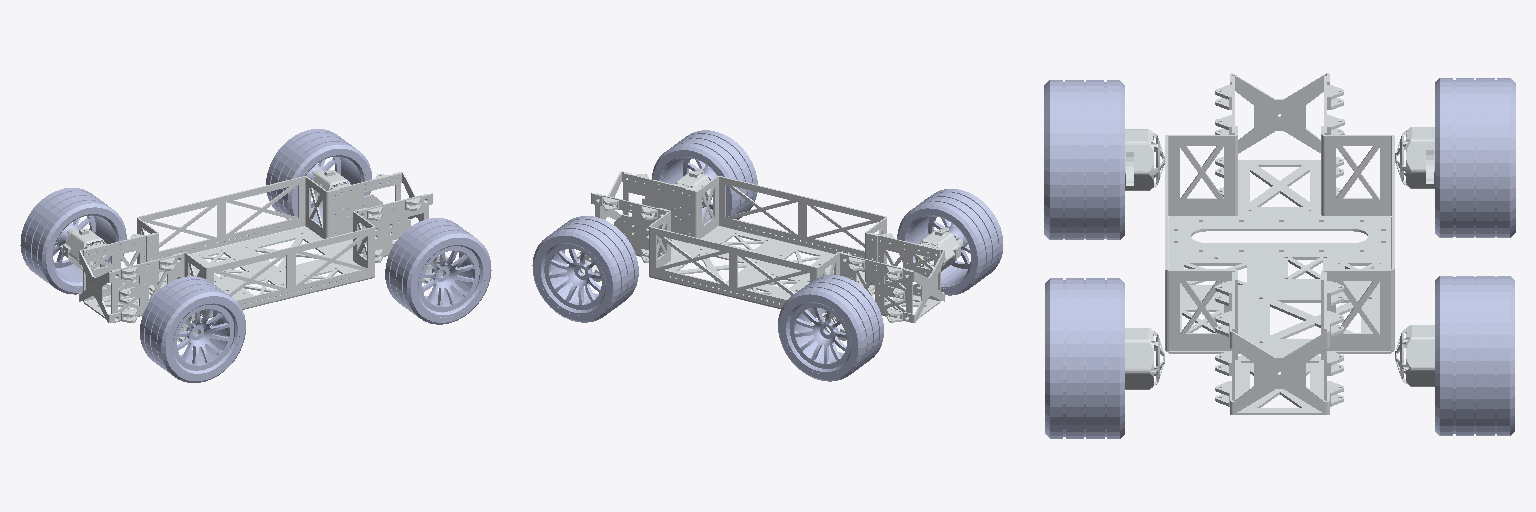
URDF robot description (roma_car):
<?xml version="1.0" encoding="utf-8"?>
<!-- This URDF was automatically created by SolidWorks to URDF Exporter! Originally created by [author] ([email redacted]) 
     Commit Version: 1.6.0-4-g7f85cfe  Build Version: 1.6.7995.38578
     For more information, please see http://wiki.ros.org/sw_urdf_exporter -->
<robot
  name="roma_car">
  <!-- 添加虚拟根链接 base_footprint-->
  <!-- <link 
    name="base_footprint">
    <visual>
      <geometry>
        <sphere radius="0.001">
      </geometry>
    </visual>
  </link> -->
  <link
    name="base_link">
    <inertial>
      <origin
        xyz="-0.00717983951773655 1.82731480210871E-05 0.031757141842569"
        rpy="0 0 0" />
      <mass
        value="1.72904566991779" />
      <inertia
        ixx="0.00426877505385634"
        ixy="2.33058322927446E-05"
        ixz="1.88523933580718E-05"
        iyy="0.00706644277689109"
        iyz="4.59184860877107E-06"
        izz="0.00992013007901617" />
    </inertial>
    <visual>
      <origin
        xyz="0 0 0"
        rpy="0 0 0" />
      <geometry>
        <mesh
          filename="package://roma_car/meshes/base_link.STL" />
      </geometry>
      <material
        name="">
        <color
          rgba="0.898039215686275 0.917647058823529 0.929411764705882 1" />
      </material>
    </visual>
    <collision>
      <origin
        xyz="0 0 0"
        rpy="0 0 0" />
      <geometry>
        <mesh
          filename="package://roma_car/meshes/base_link.STL" />
      </geometry>
    </collision>
  </link>
  <!-- 添加base_link到base_footprint之间的fixed关节 -->
  <!-- <joint
    name="baselink2footprint" type="fixed">
    <parent link="base_footprint"/>
    <child link="base_link"/>
    <origin xyz="0 0 0" rpy="0 0 0"/>
  </joint> -->

  <!-- LFSteer link-->
  <link
    name="LF_steer_link">
    <inertial>
      <origin
        xyz="0.00207166156705108 -0.00293424254545202 -1.2504503109842E-06"
        rpy="0 0 0" />
      <mass
        value="0.0678865224651951" />
      <inertia
        ixx="3.04921474473283E-05"
        ixy="1.92137892493573E-06"
        ixz="-2.66341595719942E-09"
        iyy="3.6288677709521E-05"
        iyz="-3.45448735906458E-09"
        izz="2.73221018835434E-05" />
    </inertial>
    <visual>
      <origin
        xyz="0 0 0"
        rpy="0 0 0" />
      <geometry>
        <mesh
          filename="package://roma_car/meshes/LF_steer_link.STL" />
      </geometry>
      <material
        name="">
        <color
          rgba="0.898039215686275 0.917647058823529 0.929411764705882 1" />
      </material>
    </visual>
    <collision>
      <origin
        xyz="0 0 0"
        rpy="0 0 0" />
      <geometry>
        <mesh
          filename="package://roma_car/meshes/LF_steer_link.STL" />
      </geometry>
    </collision>
  </link>
  <!-- LFSteer joint -->
  <joint
    name="LF_steer_joint"
    type="revolute">
    <origin
      xyz="0.202 0.14049 0.0274"
      rpy="0 0 0" />
    <parent
      link="base_link" />
    <child
      link="LF_steer_link" />
    <axis
      xyz="0 0 -1" />
    <limit
      lower="-0.68"
      upper="0.68"
      effort="3.0"
      velocity="5.0" />
  </joint>
  <!-- LFsus link -->
  <link
    name="LF_susp_link">
    <inertial>
      <origin
        xyz="0.00207166156705108 -0.00293424254545202 -1.25045031098767E-06"
        rpy="0 0 0" />
      <mass
        value="0.0678865224651951" />
      <inertia
        ixx="3.04921474473283E-05"
        ixy="1.92137892493573E-06"
        ixz="-2.66341595719842E-09"
        iyy="3.6288677709521E-05"
        iyz="-3.45448735906514E-09"
        izz="2.73221018835434E-05" />
    </inertial>
    <visual>
      <origin
        xyz="0 0 0"
        rpy="0 0 0" />
      <geometry>
        <mesh
          filename="package://roma_car/meshes/LF_susp_link.STL" />
      </geometry>
      <material
        name="">
        <color
          rgba="0.898039215686275 0.917647058823529 0.929411764705882 1" />
      </material>
    </visual>
    <collision>
      <origin
        xyz="0 0 0"
        rpy="0 0 0" />
      <geometry>
        <mesh
          filename="package://roma_car/meshes/LF_susp_link.STL" />
      </geometry>
    </collision>
  </link>
  <!-- LFsus joint -->
  <joint
    name="LF_susp_joint"
    type="prismatic">
    <origin
      xyz="0 0 0"
      rpy="0 0 0" />
    <parent
      link="LF_steer_link" />
    <child
      link="LF_susp_link" />
    <axis
      xyz="0 0 -1" />
    <limit
      lower="-0.03"
      upper="0.03"
      effort="1"
      velocity="1" />
    <dynamics 
      damping= "0.1"
      friction = "0.0" />
  </joint>
 
  <!-- LFdrivelink -->
  <link
    name="LF_drive_link">
    <inertial>
      <origin
        xyz="3.30620242017243E-08 -0.0336073824875323 1.55544594534346E-07"
        rpy="0 0 0" />
      <mass
        value="0.507113050935727" />
      <inertia
        ixx="0.00111884294010658"
        ixy="6.40656197255056E-11"
        ixz="-4.50411004489087E-14"
        iyy="0.00183459882798548"
        iyz="3.01405042947201E-10"
        izz="0.00111884294014766" />
    </inertial>
    <visual>
      <origin
        xyz="0 0 0"
        rpy="0 0 0" />
      <geometry>
        <mesh
          filename="package://roma_car/meshes/LF_drive_link.STL" />
      </geometry>
      <material
        name="">
        <color
          rgba="0.792156862745098 0.819607843137255 0.933333333333333 1" />
      </material>
    </visual>
    <collision>
      <origin
        xyz="0 0 0"
        rpy="0 0 0" />
      <geometry>
        <mesh
          filename="package://roma_car/meshes/LF_drive_link.STL" />
      </geometry>
    </collision>
  </link>
  <!-- LFdrive joint -->
  <joint
    name="LF_drive_joint"
    type="revolute">
    <origin
      xyz="0 0.0645 0"
      rpy="0 0 0" />
    <parent
      link="LF_susp_link" />
    <child
      link="LF_drive_link" />
    <axis
      xyz="0 -1 0" />
    <limit
      lower="0"
      upper="0"
      effort="1.6"
      velocity="1000" />
  </joint>

  <!-- RFSteer link -->
  <link
    name="RF_steer_link">
    <inertial>
      <origin
        xyz="0.0020716576937303 0.00293424524332131 1.25427536733919E-06"
        rpy="0 0 0" />
      <mass
        value="0.0678865123621938" />
      <inertia
        ixx="3.0492145277787E-05"
        ixy="-1.92138446027928E-06"
        ixz="2.66322668060083E-09"
        iyy="3.62886633228721E-05"
        iyz="-3.4548351112828E-09"
        izz="2.73220927297138E-05" />
    </inertial>
    <visual>
      <origin
        xyz="0 0 0"
        rpy="0 0 0" />
      <geometry>
        <mesh
          filename="package://roma_car/meshes/RF_steer_link.STL" />
      </geometry>
      <material
        name="">
        <color
          rgba="0.898039215686275 0.917647058823529 0.929411764705882 1" />
      </material>
    </visual>
    <collision>
      <origin
        xyz="0 0 0"
        rpy="0 0 0" />
      <geometry>
        <mesh
          filename="package://roma_car/meshes/RF_steer_link.STL" />
      </geometry>
    </collision>
  </link>
  <!-- RFSteer joint -->
  <joint
    name="RF_steer_joint"
    type="revolute">
    <origin
      xyz="0.202 -0.1401 0.024747"
      rpy="0 0 0" />
    <parent
      link="base_link" />
    <child
      link="RF_steer_link" />
    <axis
      xyz="0 0 -0.999999999999999" />
    <limit
      lower="-0.68"
      upper="0.68"
      effort="3.0"
      velocity="5.0" />
  </joint>
  <!-- RFsusp link -->
  <link
    name="RF_susp_link">
    <inertial>
      <origin
        xyz="0.00207165769373031 0.00293424524332137 1.25427536733919E-06"
        rpy="0 0 0" />
      <mass
        value="0.0678865123621938" />
      <inertia
        ixx="3.0492145277787E-05"
        ixy="-1.92138446027928E-06"
        ixz="2.66322668060124E-09"
        iyy="3.62886633228721E-05"
        iyz="-3.45483511128314E-09"
        izz="2.73220927297138E-05" />
    </inertial>
    <visual>
      <origin
        xyz="0 0 0"
        rpy="0 0 0" />
      <geometry>
        <mesh
          filename="package://roma_car/meshes/RF_susp_link.STL" />
      </geometry>
      <material
        name="">
        <color
          rgba="0.898039215686275 0.917647058823529 0.929411764705882 1" />
      </material>
    </visual>
    <collision>
      <origin
        xyz="0 0 0"
        rpy="0 0 0" />
      <geometry>
        <mesh
          filename="package://roma_car/meshes/RF_susp_link.STL" />
      </geometry>
    </collision>
  </link>
  <!-- RFsus joint -->
  <joint
    name="RF_susp_joint"
    type="prismatic">
    <origin
      xyz="0 0 0"
      rpy="0 0 0" />
    <parent
      link="RF_steer_link" />
    <child
      link="RF_susp_link" />
    <axis
      xyz="0 0 -1" />
    <limit
      lower="-0.03"
      upper="0.03"
      effort="1"
      velocity="1" />
    <dynamics 
      damping= "0.1"
      friction = "0.0" />
  </joint>

  <!-- RFdrive link -->
   <link
    name="RF_drive_link">
    <inertial>
      <origin
        xyz="3.30620242156021E-08 0.0336073824875322 -1.55544594516999E-07"
        rpy="0 0 0" />
      <mass
        value="0.507113050935727" />
      <inertia
        ixx="0.00111884294010658"
        ixy="-6.40656198339258E-11"
        ixz="4.50408198797879E-14"
        iyy="0.00183459882798547"
        iyz="3.01405043106566E-10"
        izz="0.00111884294014766" />
    </inertial>
    <visual>
      <origin
        xyz="0 0 0"
        rpy="0 0 0" />
      <geometry>
        <mesh
          filename="package://roma_car/meshes/RF_drive_link.STL" />
      </geometry>
      <material
        name="">
        <color
          rgba="0.792156862745098 0.819607843137255 0.933333333333333 1" />
      </material>
    </visual>
    <collision>
      <origin
        xyz="0 0 0"
        rpy="0 0 0" />
      <geometry>
        <mesh
          filename="package://roma_car/meshes/RF_drive_link.STL" />
      </geometry>
    </collision>
  </link>
  <!-- RFdrive joint -->
  <joint
    name="RF_drive_joint"
    type="revolute">
    <origin
      xyz="0 -0.0645 0"
      rpy="0 0 0" />
    <parent
      link="RF_susp_link" />
    <child
      link="RF_drive_link" />
    <axis
      xyz="0 0.999999999999971 0" />
    <limit
      lower="0"
      upper="0"
      effort="1.6"
      velocity="1000" />
  </joint>
  <!-- LBsus link -->
  <link
    name="LB_susp_link">
    <inertial>
      <origin
        xyz="-0.0020716605562279 -0.00293425884253445 1.25481721927057E-06"
        rpy="0 0 0" />
      <mass
        value="0.0678865592182801" />
      <inertia
        ixx="3.04921510749327E-05"
        ixy="-1.9213806579218E-06"
        ixz="-2.66095305689508E-09"
        iyy="3.62886859937246E-05"
        iyz="3.45531634353211E-09"
        izz="2.73221072587474E-05" />
    </inertial>
    <visual>
      <origin
        xyz="0 0 0"
        rpy="0 0 0" />
      <geometry>
        <mesh
          filename="package://roma_car/meshes/LB_susp_link.STL" />
      </geometry>
      <material
        name="">
        <color
          rgba="0.898039215686275 0.917647058823529 0.929411764705882 1" />
      </material>
    </visual>
    <collision>
      <origin
        xyz="0 0 0"
        rpy="0 0 0" />
      <geometry>
        <mesh
          filename="package://roma_car/meshes/LB_susp_link.STL" />
      </geometry>
    </collision>
  </link>
  <!-- LBsus joint -->
  <joint
    name="LB_susp_joint"
    type="prismatic">
    <origin
      xyz="-0.202 0.14069 0.029059"
      rpy="0 0 0" />
    <parent
      link="base_link" />
    <child
      link="LB_susp_link" />
    <axis
      xyz="0 0 -1" />
    <limit
      lower="-0.03"
      upper="0.03"
      effort="1"
      velocity="1" />
    <dynamics 
      damping= "0.1"
      friction = "0.0" />
  </joint>
  <!-- LBdrive link -->
  <link
    name="LB_drive_link">
    <inertial>
      <origin
        xyz="-3.30620247013247E-08 -0.0336073824875323 -1.55544594784146E-07"
        rpy="0 0 0" />
      <mass
        value="0.507113050935728" />
      <inertia
        ixx="0.00111884294010658"
        ixy="-6.40656198032815E-11"
        ixz="-4.50413046944349E-14"
        iyy="0.00183459882798548"
        iyz="-3.01405043212294E-10"
        izz="0.00111884294014766" />
    </inertial>
    <visual>
      <origin
        xyz="0 0 0"
        rpy="0 0 0" />
      <geometry>
        <mesh
          filename="package://roma_car/meshes/LB_drive_link.STL" />
      </geometry>
      <material
        name="">
        <color
          rgba="0.792156862745098 0.819607843137255 0.933333333333333 1" />
      </material>
    </visual>
    <collision>
      <origin
        xyz="0 0 0"
        rpy="0 0 0" />
      <geometry>
        <mesh
          filename="package://roma_car/meshes/LB_drive_link.STL" />
      </geometry>
    </collision>
  </link>
  <!-- LBdrive joint -->
  <joint
    name="LB_drive_joint"
    type="revolute">
    <origin
      xyz="0 0.0645 0"
      rpy="0 0 0" />
    <parent
      link="LB_susp_link" />
    <child
      link="LB_drive_link" />
    <axis
      xyz="0 -1 0" />
    <limit
      lower="0"
      upper="0"
      effort="1.6"
      velocity="1000" />
  </joint>
  <!-- RBsus link -->
  <link
    name="RB_susp_link">
    <inertial>
      <origin
        xyz="-0.0020716605562279 0.00293425884253443 -1.25481721927057E-06"
        rpy="0 0 0" />
      <mass
        value="0.0678865592182801" />
      <inertia
        ixx="3.04921510749327E-05"
        ixy="1.9213806579218E-06"
        ixz="2.66095305689854E-09"
        iyy="3.62886859937246E-05"
        iyz="3.45531634354458E-09"
        izz="2.73221072587474E-05" />
    </inertial>
    <visual>
      <origin
        xyz="0 0 0"
        rpy="0 0 0" />
      <geometry>
        <mesh
          filename="package://roma_car/meshes/RB_susp_link.STL" />
      </geometry>
      <material
        name="">
        <color
          rgba="0.898039215686275 0.917647058823529 0.929411764705882 1" />
      </material>
    </visual>
    <collision>
      <origin
        xyz="0 0 0"
        rpy="0 0 0" />
      <geometry>
        <mesh
          filename="package://roma_car/meshes/RB_susp_link.STL" />
      </geometry>
    </collision>
  </link>
  <!-- RBsus joint -->
  <joint
    name="RB_susp_joint"
    type="prismatic">
    <origin
      xyz="-0.202000000000001 -0.140437398863823 0.0270007216203276"
      rpy="0 0 0" />
    <parent
      link="base_link" />
    <child
      link="RB_susp_link" />
    <axis
      xyz="0 0 -1" />
    <limit
      lower="-0.03"
      upper="0.03"
      effort="1"
      velocity="1" />
    <dynamics 
      damping= "0.1"
      friction = "0.0" />
  </joint>
  <!-- RBdrive link -->
  <link
    name="RB_drive_link">
    <inertial>
      <origin
        xyz="-3.30620241739688E-08 0.0336073824875323 1.55544594530876E-07"
        rpy="0 0 0" />
      <mass
        value="0.507113050935727" />
      <inertia
        ixx="0.00111884294010658"
        ixy="6.40656195963382E-11"
        ixz="4.50410270980237E-14"
        iyy="0.00183459882798548"
        iyz="-3.01405043000091E-10"
        izz="0.00111884294014766" />
    </inertial>
    <visual>
      <origin
        xyz="0 0 0"
        rpy="0 0 0" />
      <geometry>
        <mesh
          filename="package://roma_car/meshes/RB_drive_link.STL" />
      </geometry>
      <material
        name="">
        <color
          rgba="0.792156862745098 0.819607843137255 0.933333333333333 1" />
      </material>
    </visual>
    <collision>
      <origin
        xyz="0 0 0"
        rpy="0 0 0" />
      <geometry>
        <mesh
          filename="package://roma_car/meshes/RB_drive_link.STL" />
      </geometry>
    </collision>
  </link>
  <!-- RBdirve joint -->
  <joint
    name="RB_drive_joint"
    type="revolute">
    <origin
      xyz="0 -0.0645 0"
      rpy="0 0 0" />
    <parent
      link="RB_susp_link" />
    <child
      link="RB_drive_link" />
    <axis
      xyz="0 1 0" />
    <limit
      lower="0"
      upper="0"
      effort="1.6"
      velocity="1000" />
  </joint>
</robot>

--- Render facts (derived) ---
The picture shows the robot from 3 angles, left to right: view 1: azimuth 30°, elevation 25°; view 2: azimuth 150°, elevation 25°; view 3: azimuth 270°, elevation 25°; orthographic projection.
Robot: roma_car — 11 links, 10 joints (6 revolute, 4 prismatic); root link base_link; default pose: every joint at zero.
Links seen in each view (by area): view 1: base_link, RB_drive_link, RF_drive_link, LB_drive_link, LF_drive_link, LB_susp_link, LF_steer_link; view 2: base_link, LF_drive_link, LB_drive_link, RB_drive_link, RF_drive_link, RB_susp_link; view 3: base_link, LB_drive_link, RB_drive_link, RF_drive_link, LF_drive_link, RF_susp_link, LF_steer_link, LB_susp_link, RB_susp_link.
Link boxes in pixels (x1,y1,x2,y2): base_link: (79, 172, 432, 322); RB_drive_link: (140, 276, 245, 382); RF_drive_link: (385, 218, 491, 324); LB_drive_link: (20, 188, 126, 294); LF_drive_link: (266, 129, 371, 226); LB_susp_link: (60, 227, 108, 270); LF_steer_link: (311, 168, 349, 208); base_link: (591, 171, 944, 322); LF_drive_link: (532, 216, 638, 322); LB_drive_link: (778, 275, 883, 381); RB_drive_link: (897, 189, 1002, 295); RF_drive_link: (652, 130, 757, 223); RB_susp_link: (915, 227, 963, 271); base_link: (1165, 73, 1394, 414); LB_drive_link: (1435, 78, 1515, 237); RB_drive_link: (1044, 80, 1124, 239); RF_drive_link: (1045, 278, 1124, 438); LF_drive_link: (1435, 276, 1514, 435); RF_susp_link: (1125, 328, 1164, 389); LF_steer_link: (1395, 325, 1434, 386); LB_susp_link: (1395, 127, 1434, 188); RB_susp_link: (1125, 129, 1164, 190).
Size in the robot's own frame: 0.5439 by 0.4101 by 0.1442 metres.
9 mesh visuals loaded from 11 distinct referenced files (9 binary STL); not drawn: 2 (reference not matched to a file when rendering).
